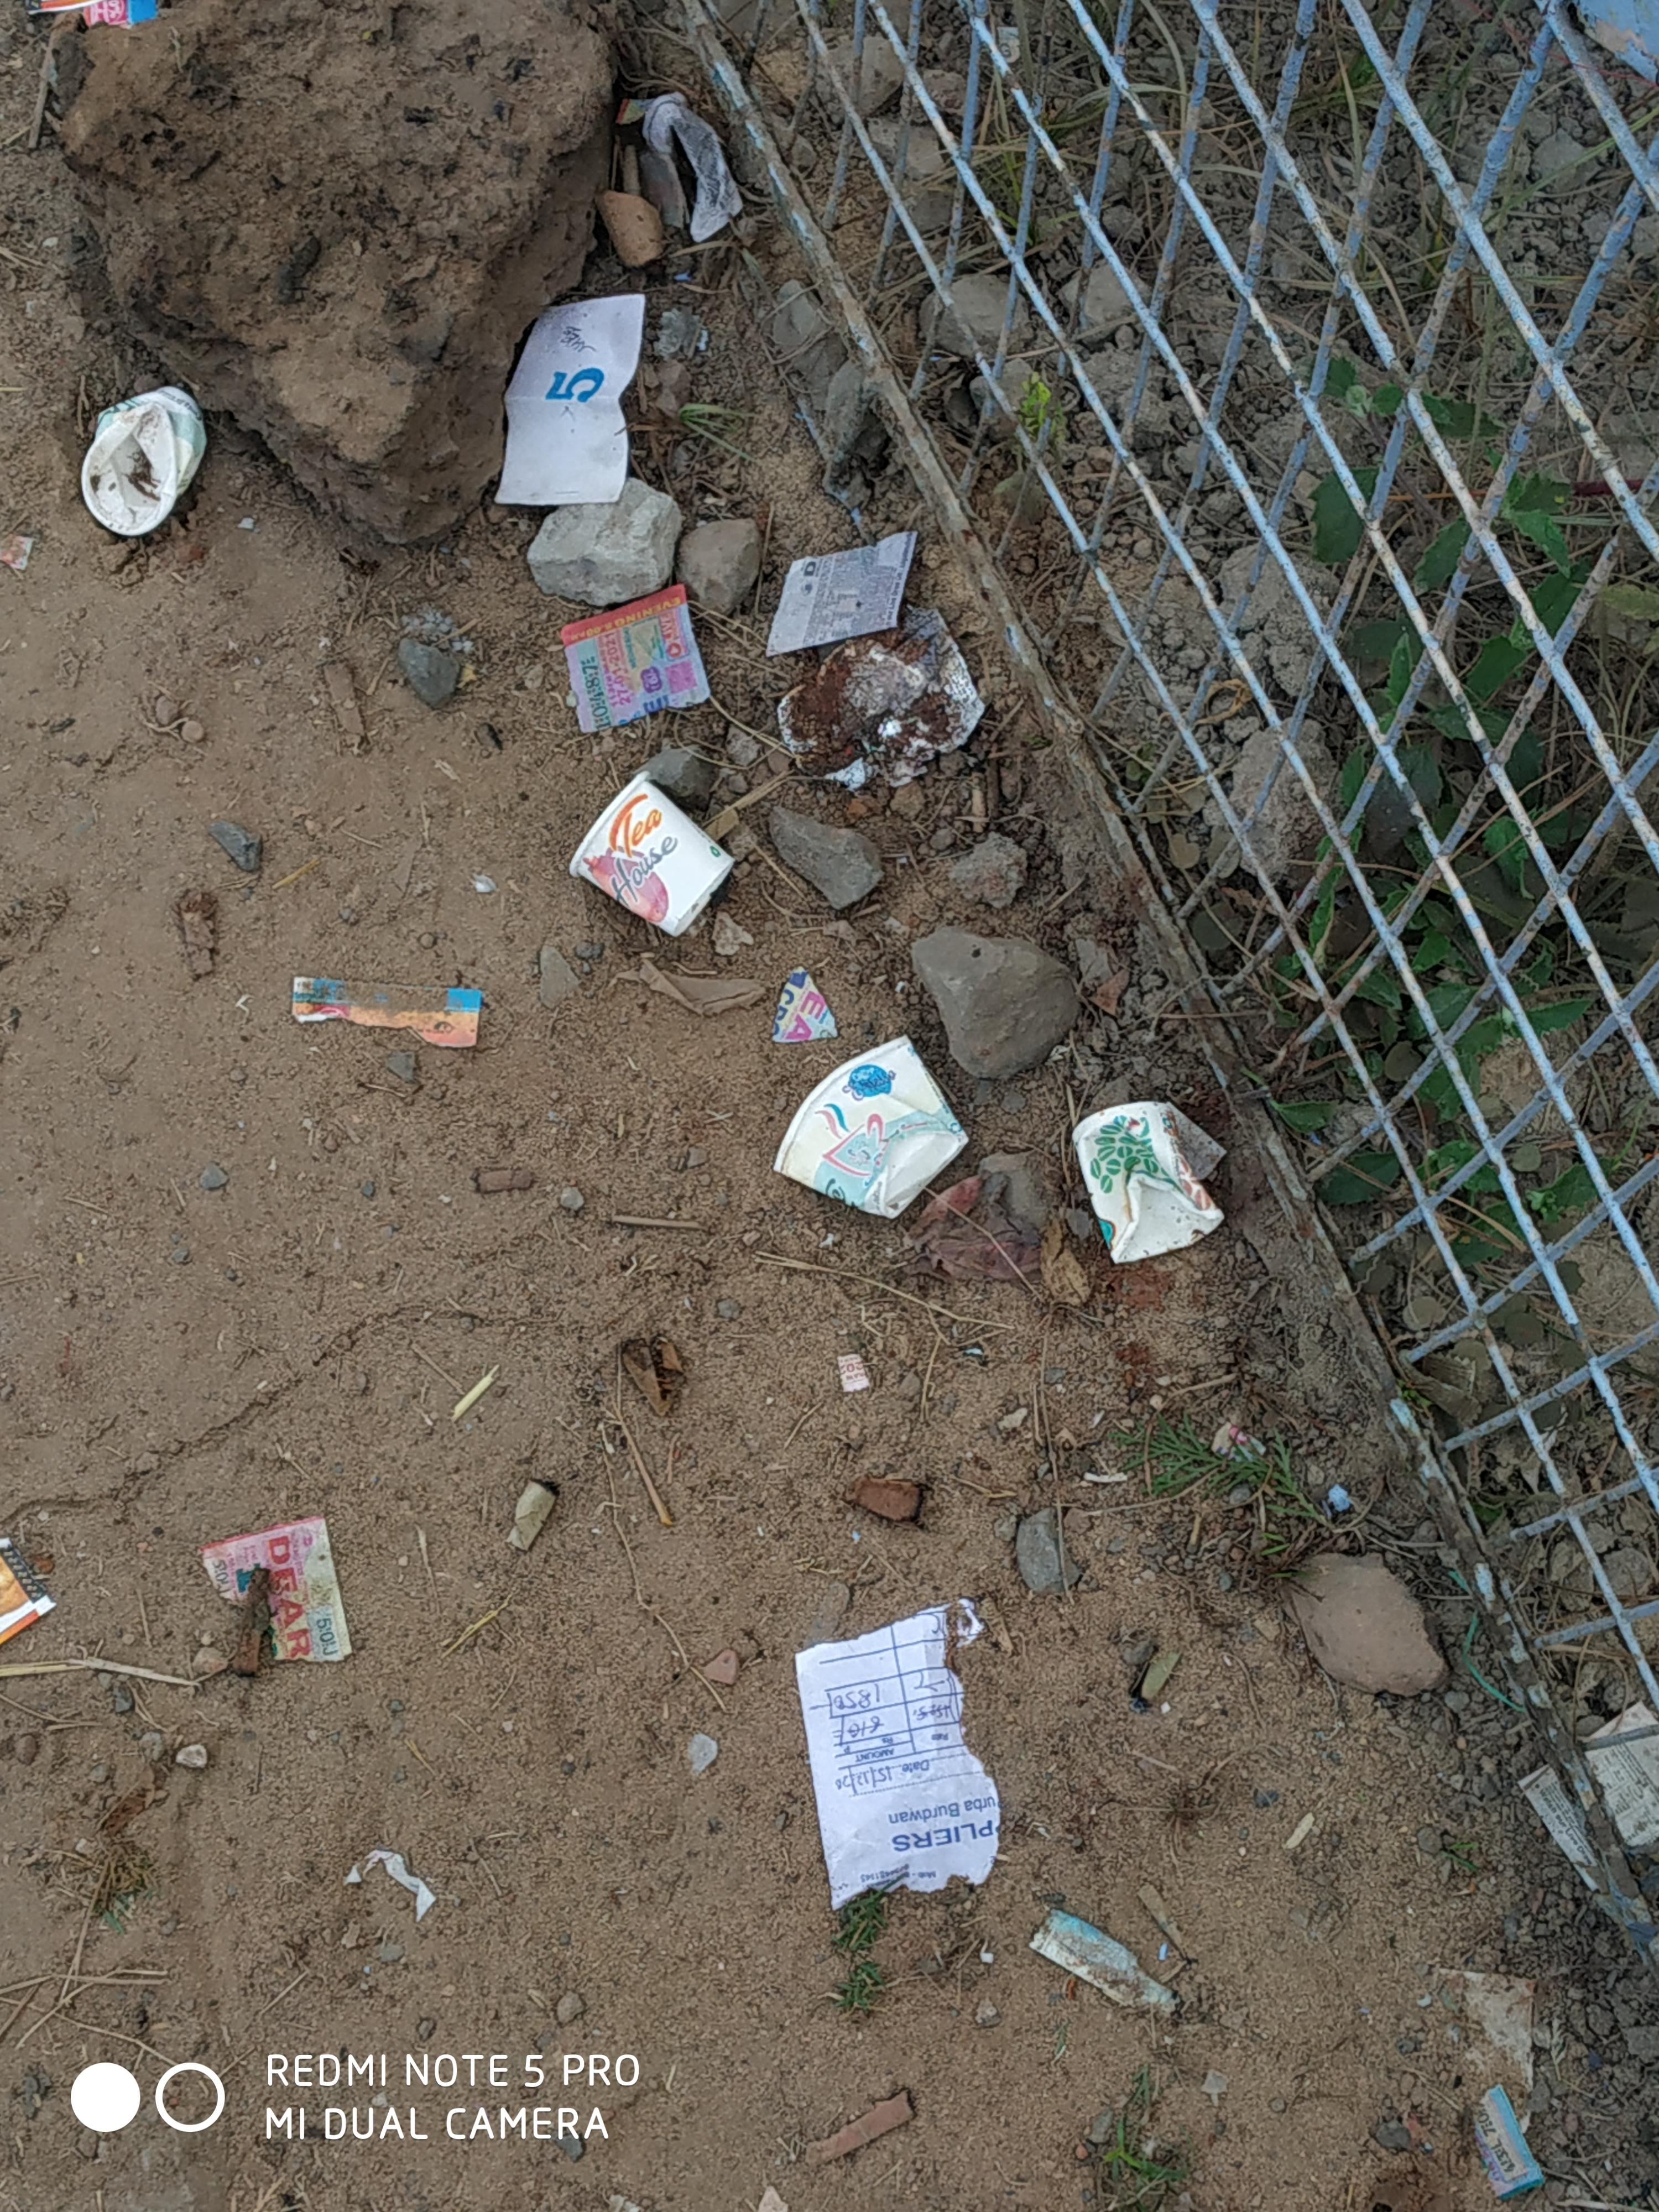trash: (66, 80, 1241, 2043)
